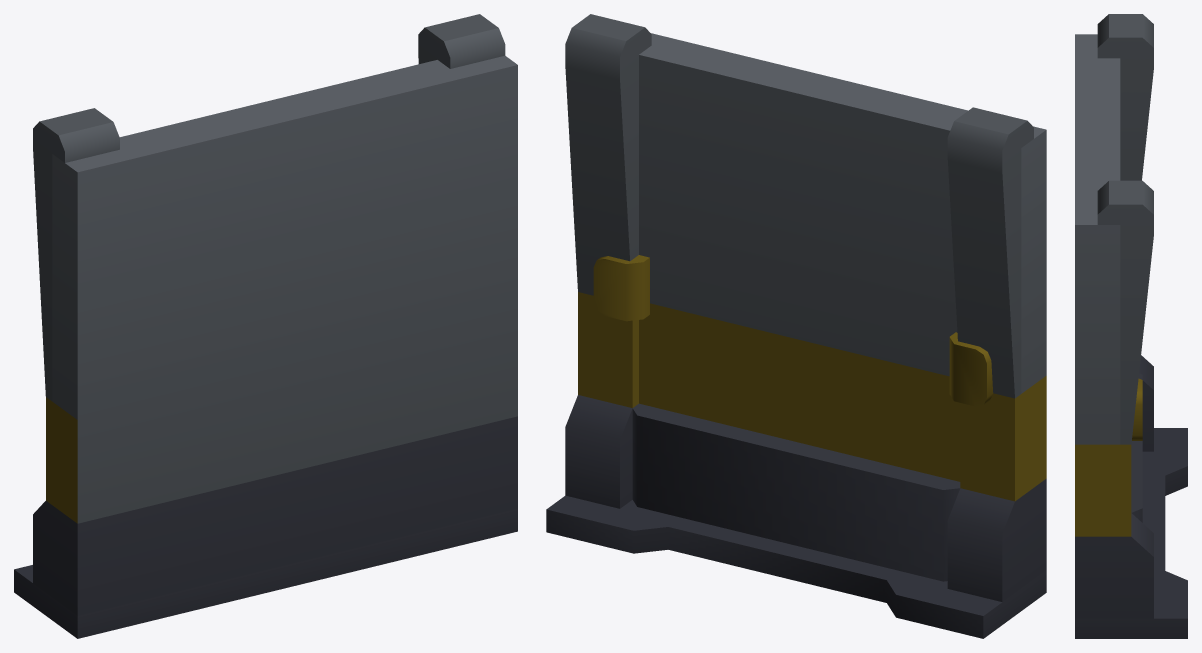
The model's file is k_template_wall.glb.
3 views of the same model, side by side, from view 1: azimuth 30°, elevation 25°; view 2: azimuth 150°, elevation 25°; view 3: azimuth 270°, elevation 25° (orthographic). The views are drawn at different scales.
Parts seen in each view (by area): view 1: template-wall; view 2: template-wall; view 3: template-wall.
Part boxes in pixels (<box>): template-wall: <box>14,14,517,638</box>; template-wall: <box>546,14,1046,638</box>; template-wall: <box>1075,14,1187,638</box>.
Size of the model in its own units: 4 by 4.25 by 1.
Materials: 1 (1 with a texture image).
